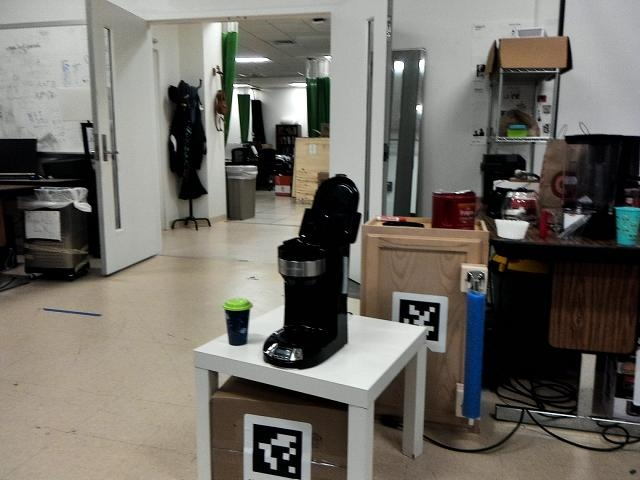coffee_cup: (614, 203, 639, 252)
noodle_handle: (464, 282, 486, 423)
useless_cup: (221, 295, 252, 350)
